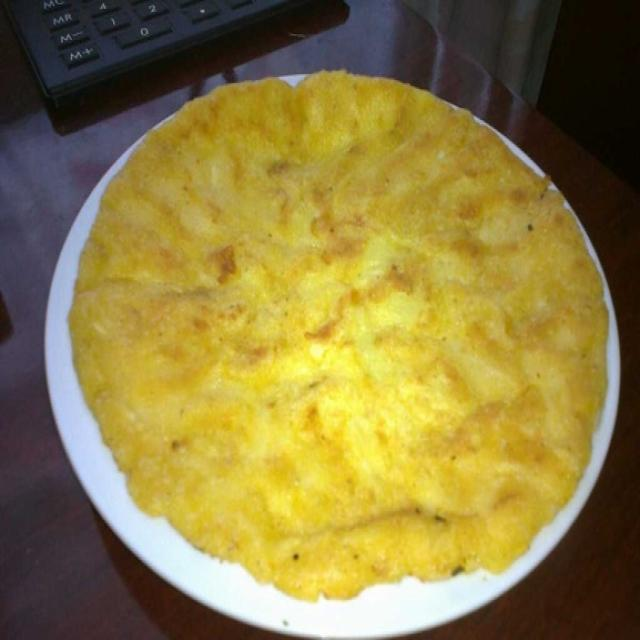面包点心: (41, 34, 631, 588)
